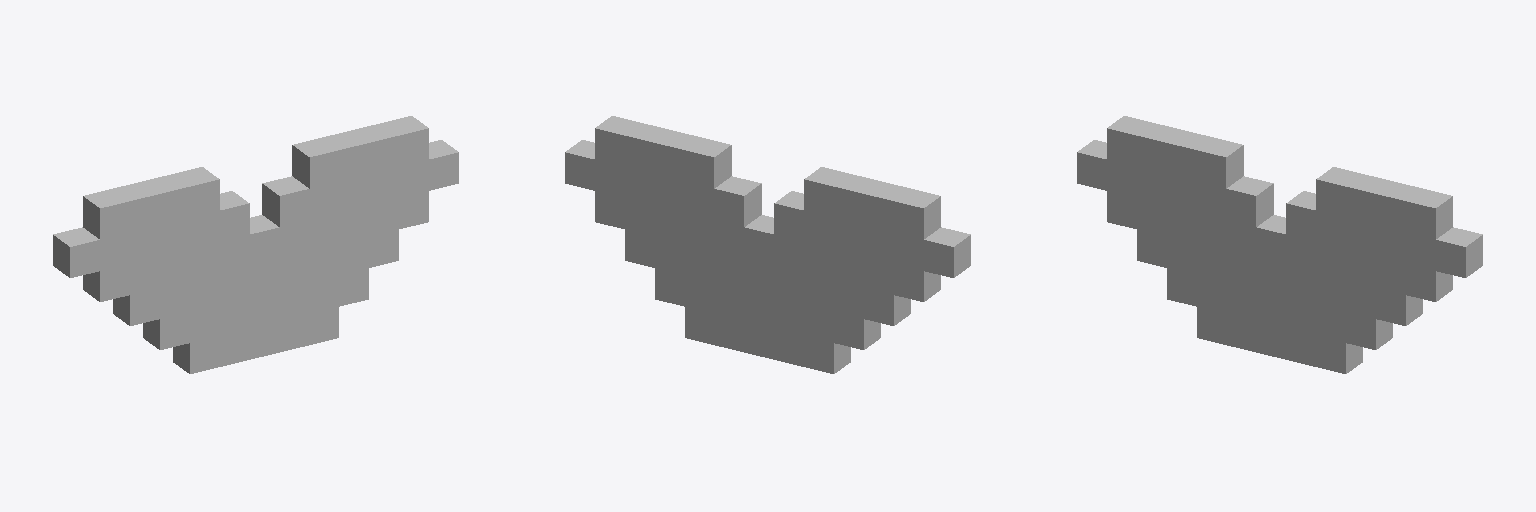
The model's file is SearchEnemytail.obj.
3 views of the same model, side by side, from view 1: azimuth 30°, elevation 25°; view 2: azimuth 150°, elevation 25°; view 3: azimuth 330°, elevation 25° (orthographic).
Bounding box in the file's own units: 13 × 6 × 1.